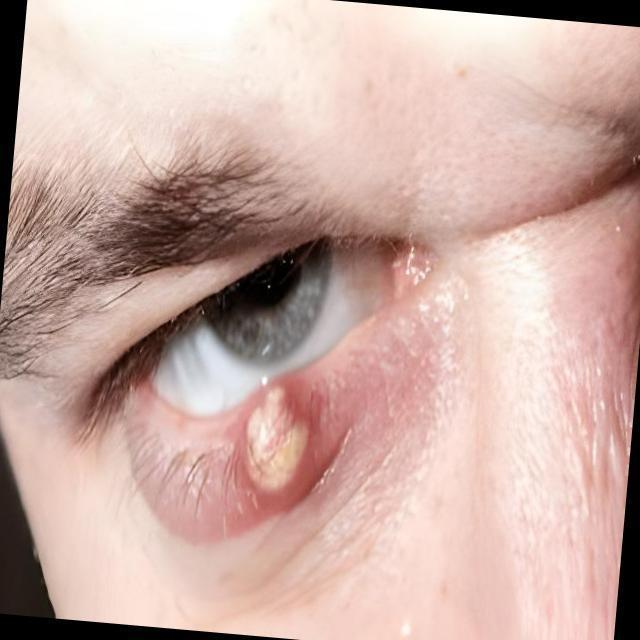Stye: (175, 361, 372, 549)
